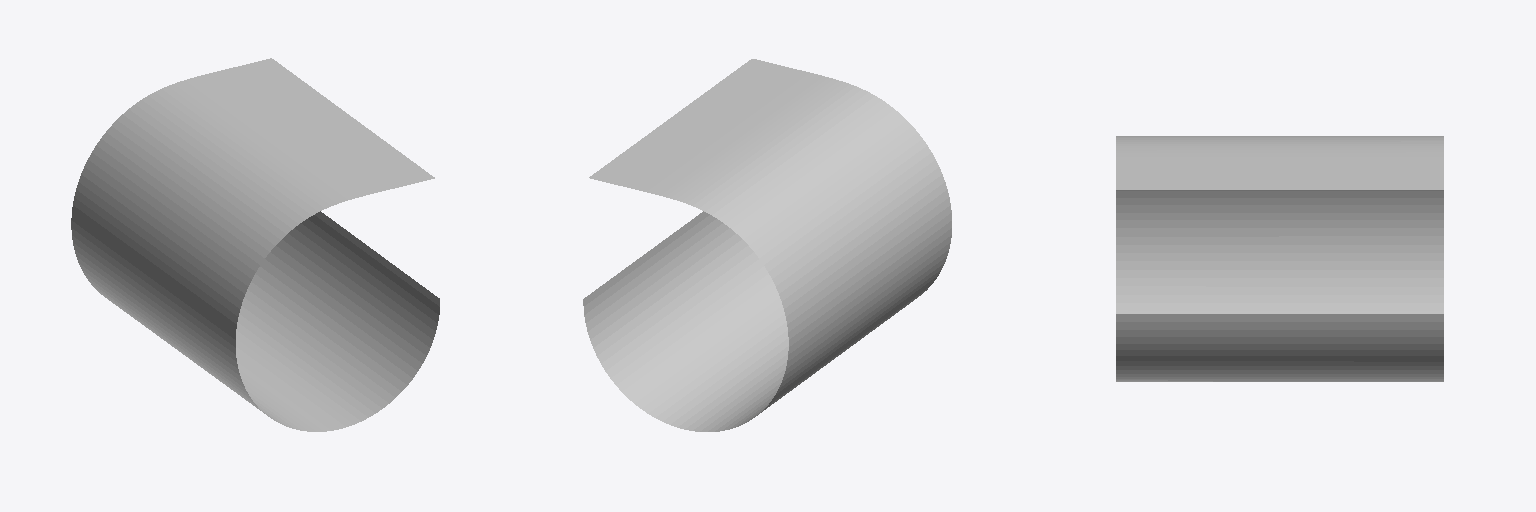
File: CurvePaper_000021.obj
3 renders of one model, left to right at view 1: azimuth 30°, elevation 25°; view 2: azimuth 150°, elevation 25°; view 3: azimuth 270°, elevation 25°, orthographic.
Visible parts, largest first — view 1: Plane; view 2: Plane; view 3: Plane.
Part boxes in pixels (x1,y1,x2,y2): Plane: (71,58,439,431); Plane: (583,59,951,431); Plane: (1116,136,1443,381).
Size of the model in its own units: 1.64 by 1.74 by 2.26.